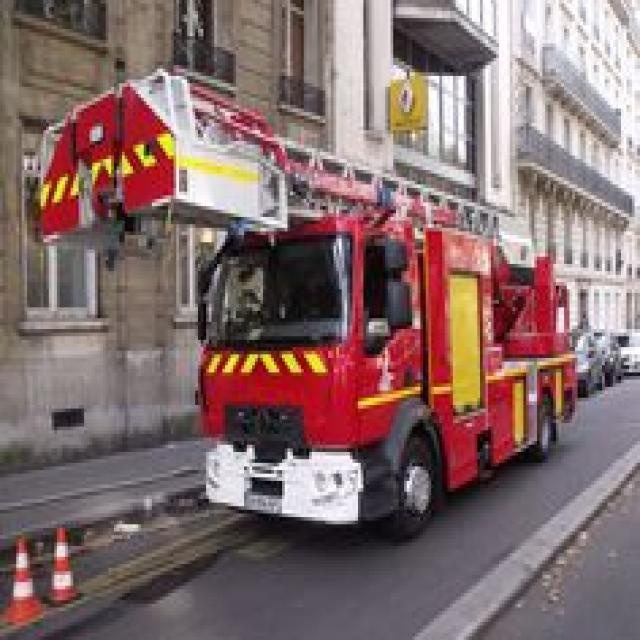emergency: (33, 62, 579, 542)
